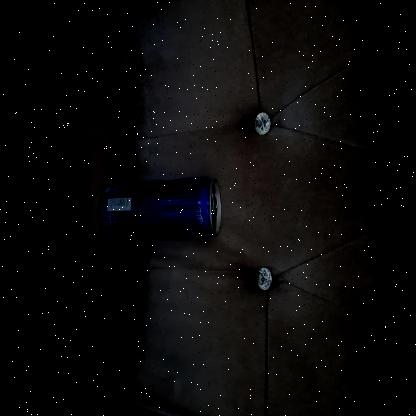Can: (94, 174, 222, 242)
